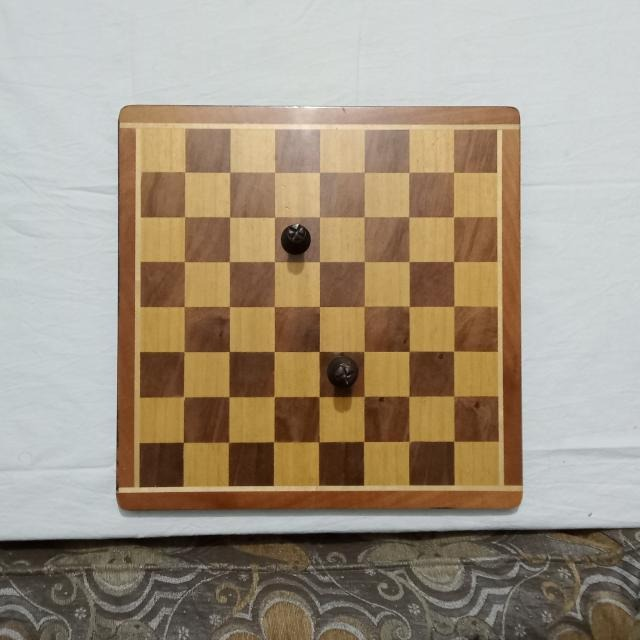black-rook: (325, 354, 360, 390), (280, 221, 311, 257)
